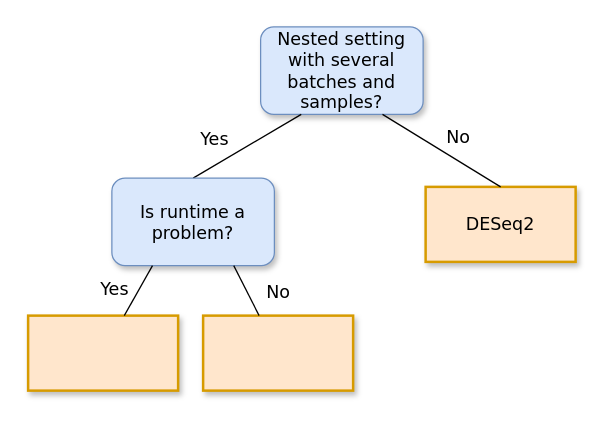
The diagram is 605 pixels wide and 423 high, and some of its shapes have lost their labels. Here are the shapes that lost their labels. From the top down, the centre of each, then its label:
the point at 103,354: DREAM
the point at 278,354: Permutation Test
